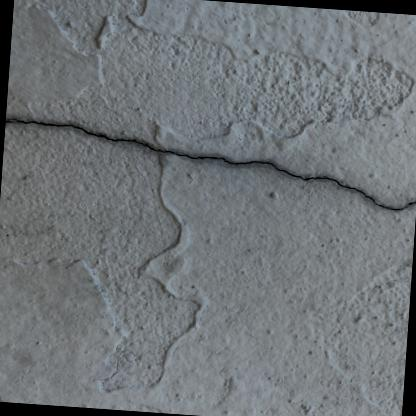crack: (9, 118, 416, 210), (6, 120, 17, 123)
